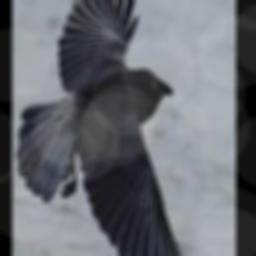Crow: (17, 0, 215, 256)
